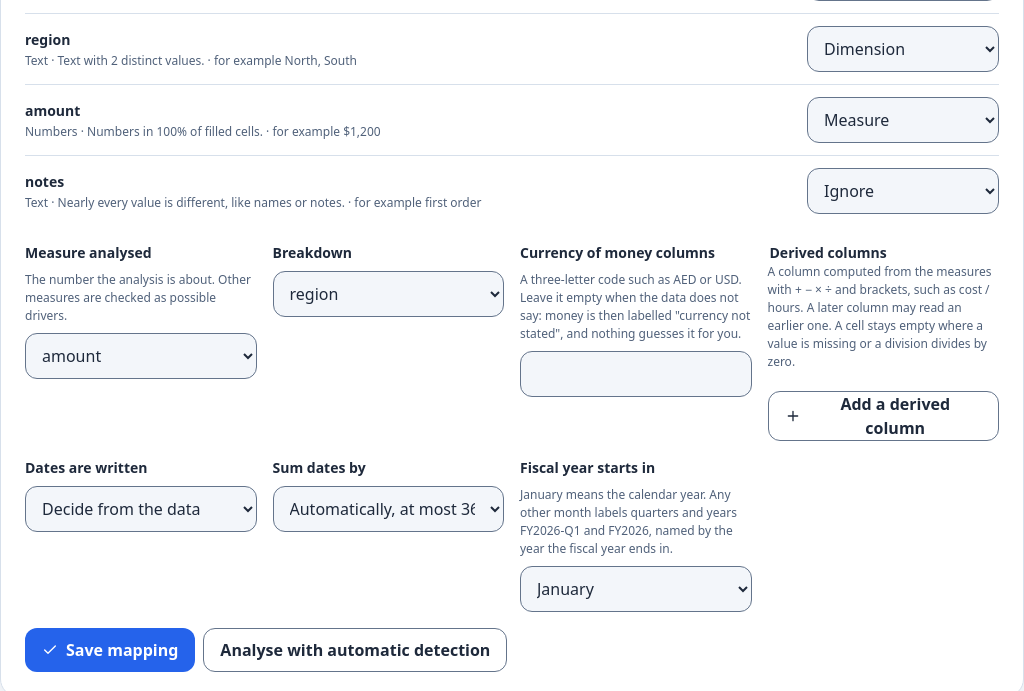
Test: MappingPanel derived columns › adds a derived column, offers it as the measure, and sends it to the server
The width and height of the screenshot is (1024, 691).
(page scrolled)
Click the button "Add a derived column" at (883, 416), box [768,391,999,441]
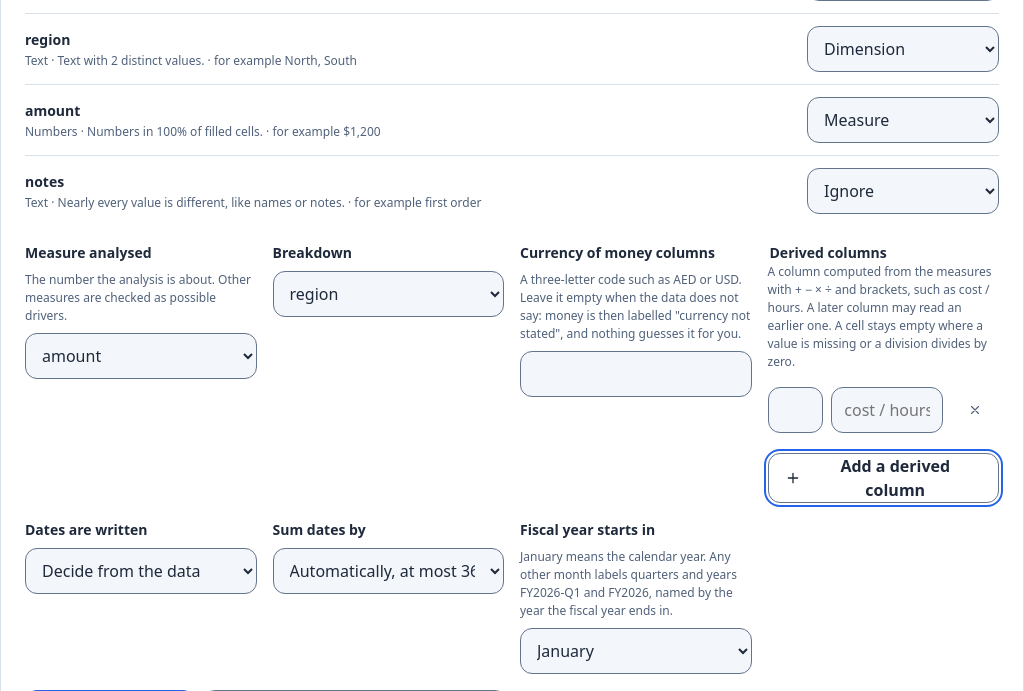
Type "amount_k" into the field named "Column name" at (795, 410), box [768,387,823,433]
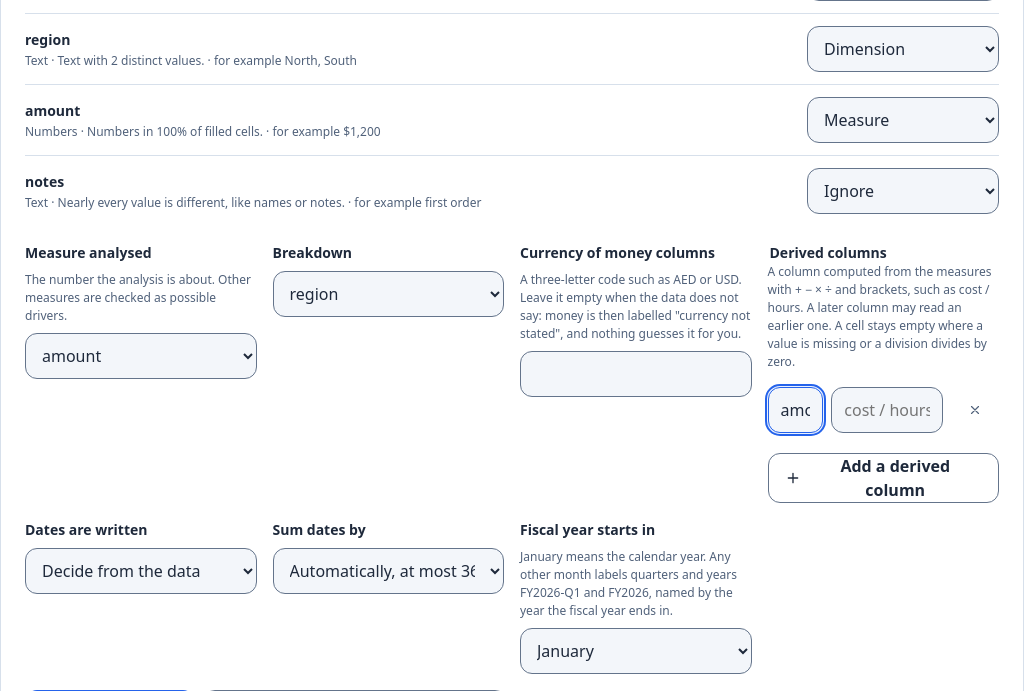
Type "amount / 1000" into the field named "Formula" at (887, 410), box [831,387,943,433]
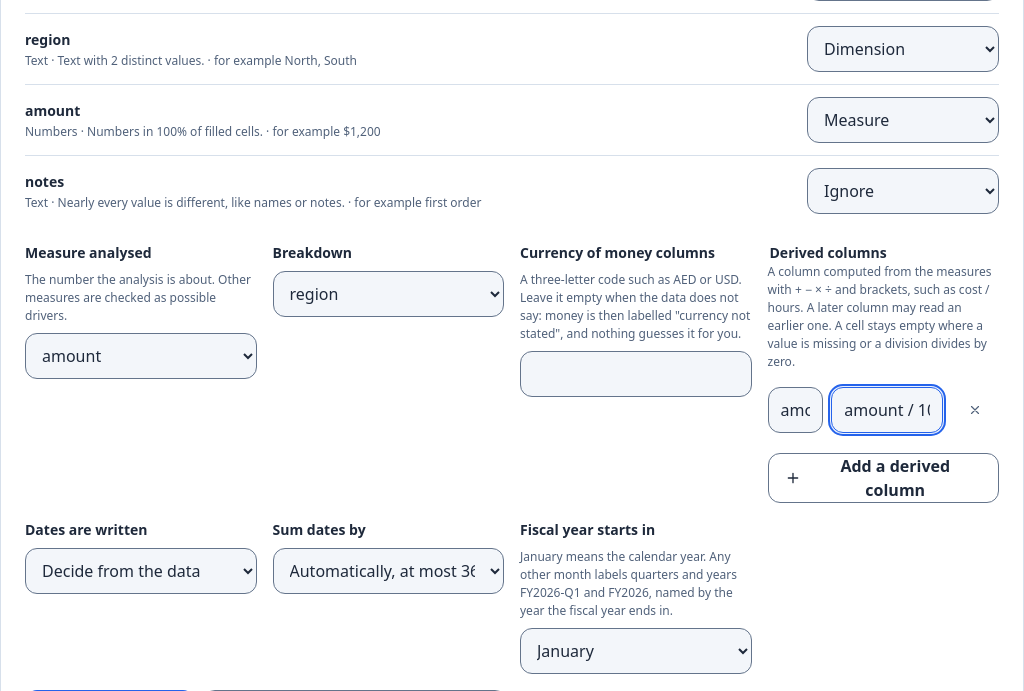
Select "amount_k" in the dropdown labelled "Measure analysed" at (141, 356), box [25,333,256,379]
(page scrolled)
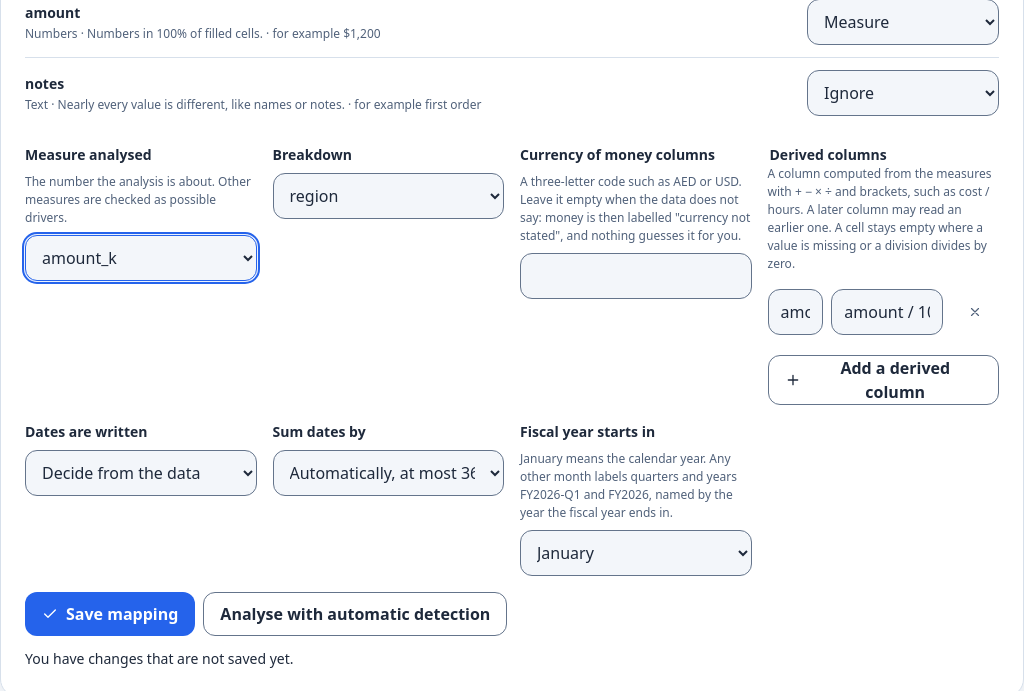
Click the button "Save mapping" at (110, 614), box [25,592,195,636]
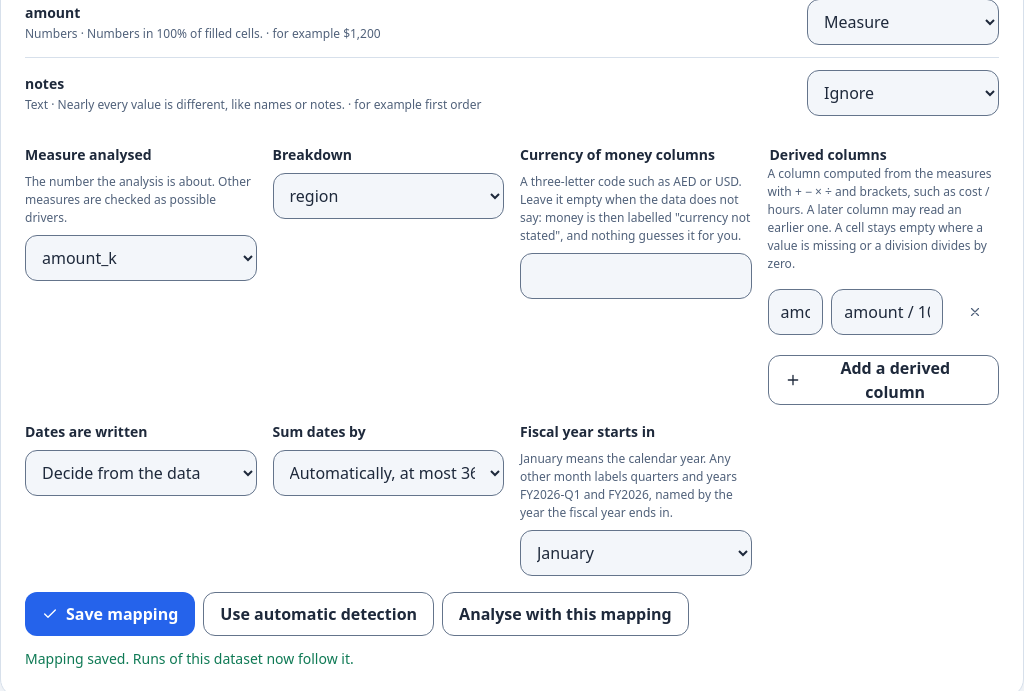
Expected: the text "Mapping saved. Runs of this dataset now follow it." is shown, [25,649,354,668]
